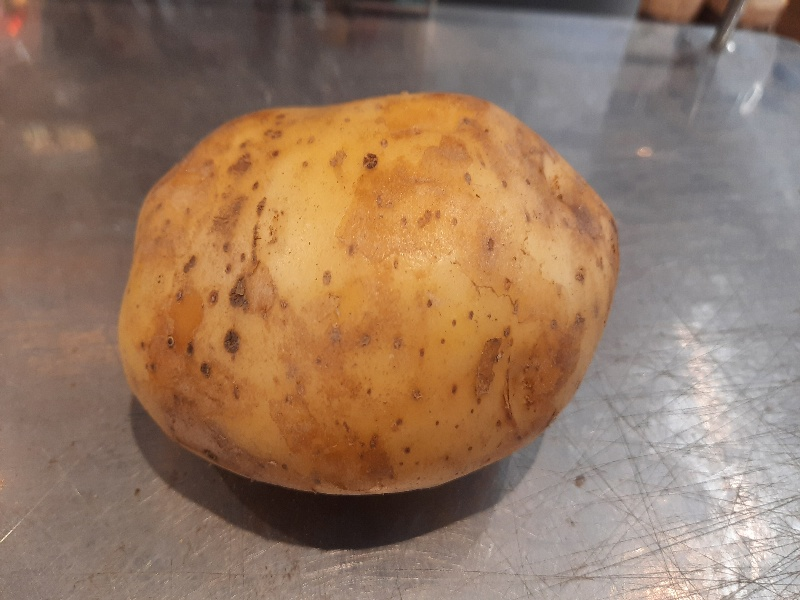vege: (115, 85, 627, 497)
